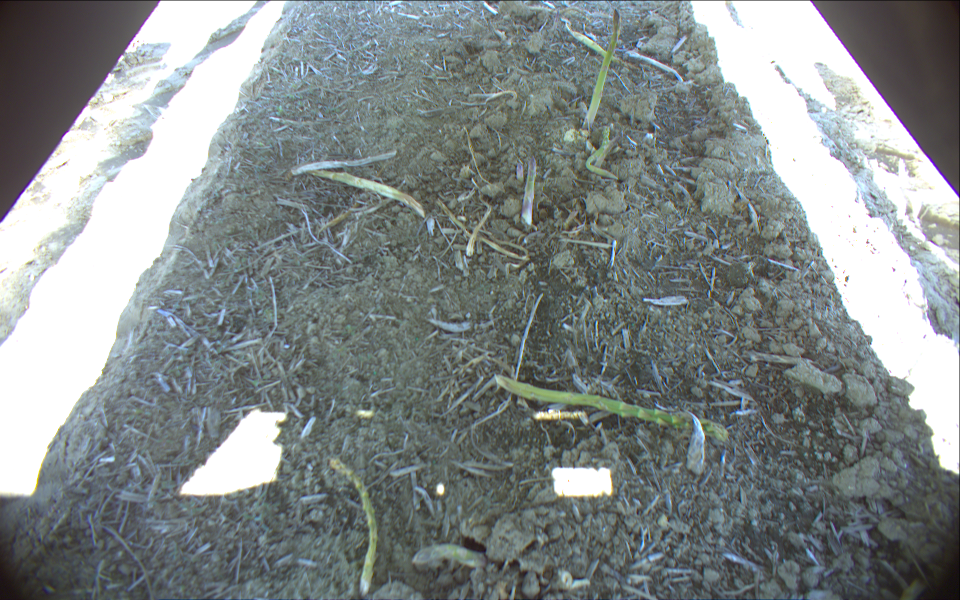aspa: (325, 453, 378, 597), (579, 6, 622, 134), (519, 156, 539, 233)
